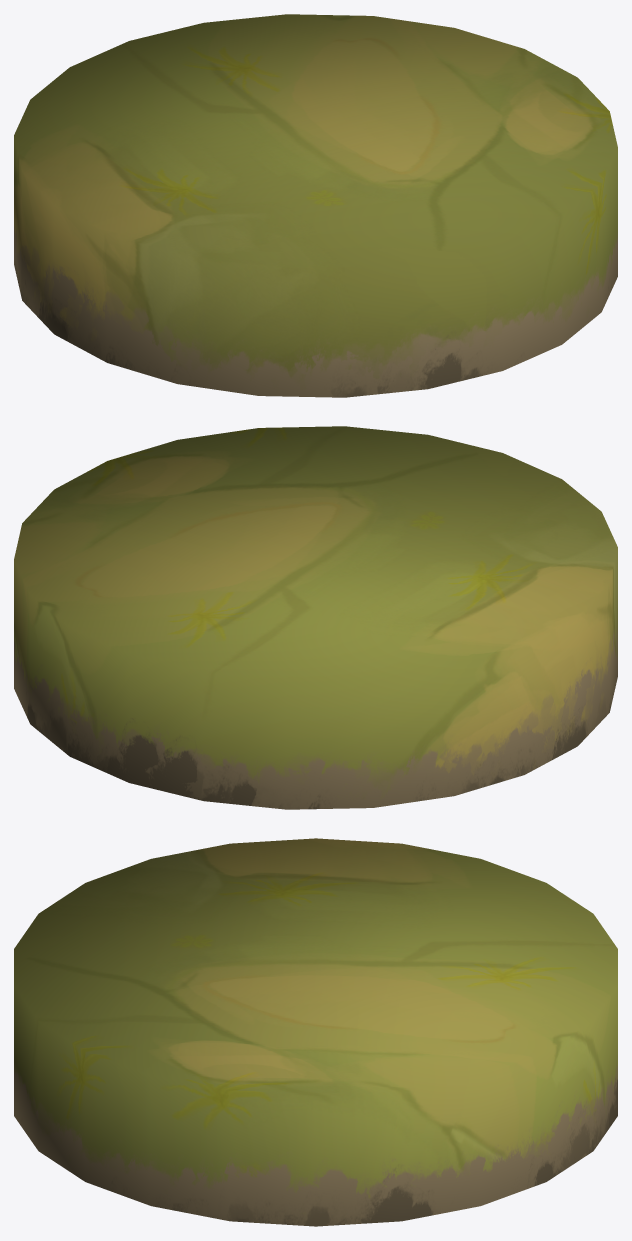
The model's file is UI_Accet_Plataform.fbx.
3 views of the same model, one above another, from view 1: azimuth 30°, elevation 25°; view 2: azimuth 150°, elevation 25°; view 3: azimuth 270°, elevation 25° (orthographic).
Parts seen in each view (by area): view 1: pCylinder1; view 2: pCylinder1; view 3: pCylinder1.
Part boxes in pixels (x1,y1,x2,y2): pCylinder1: [14, 14, 617, 397]; pCylinder1: [14, 426, 617, 809]; pCylinder1: [14, 838, 617, 1226].
Bounding box in the file's own units: 3.59 × 0.8451 × 3.55.
